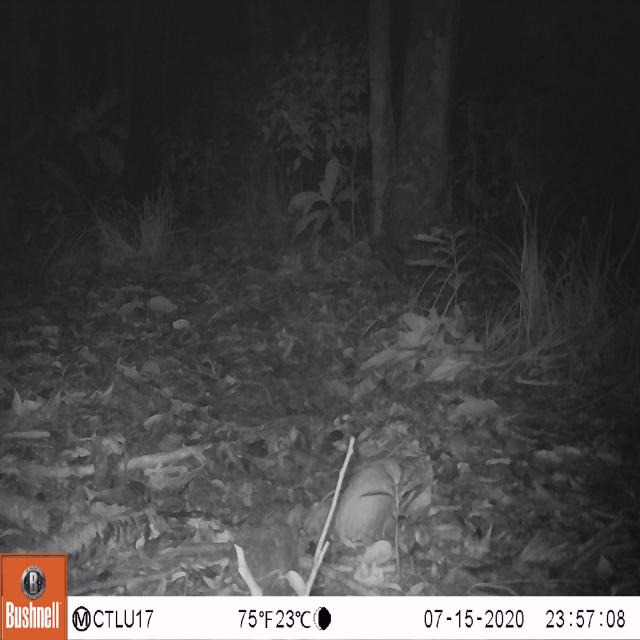Salvins Curassow: (292, 421, 408, 563)
